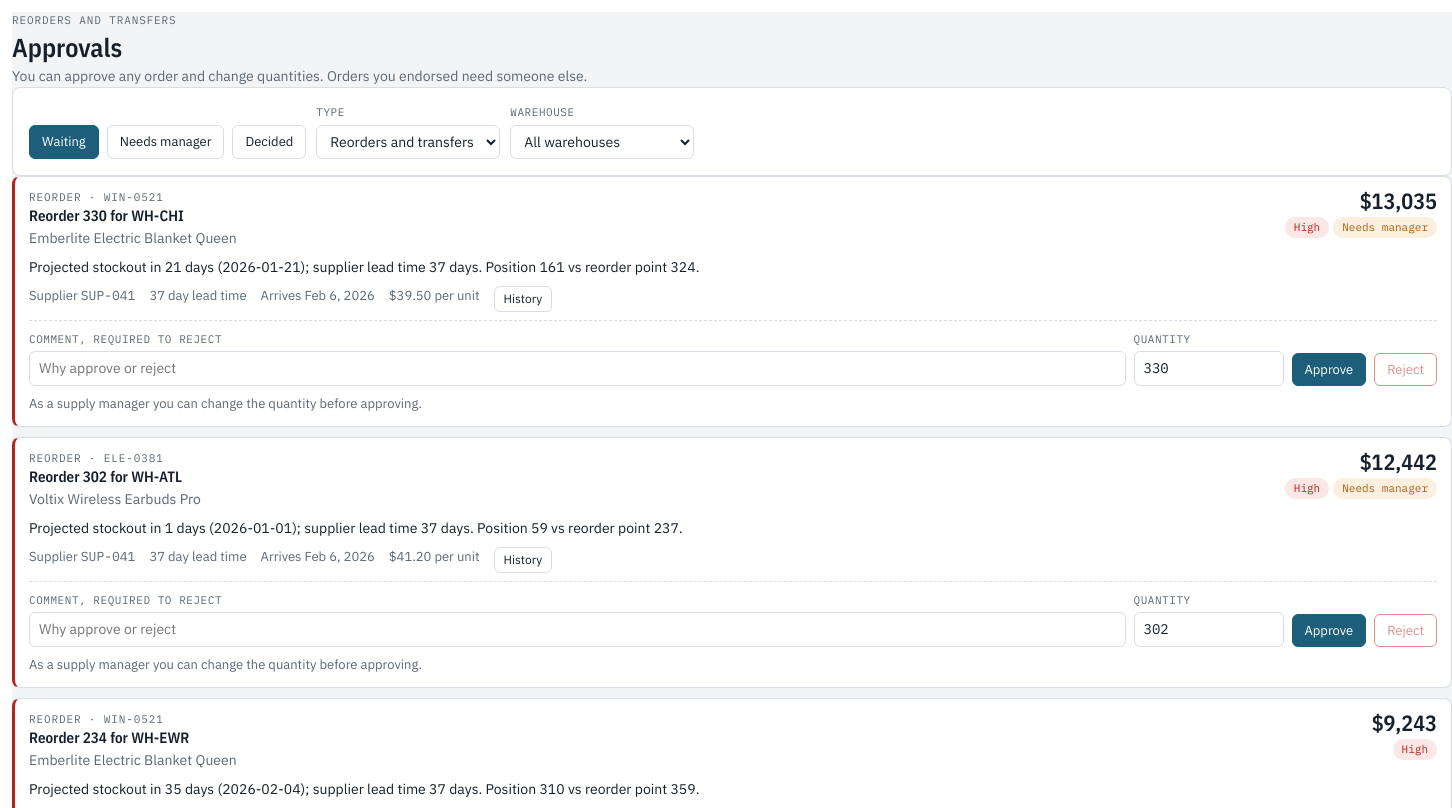
approval inbox role rules › gives a supply manager the quantity override
Replace the text in the number field labelled "Quantity" below "$13,035" with "12" at (1208, 369), box [1134,351,1284,386]
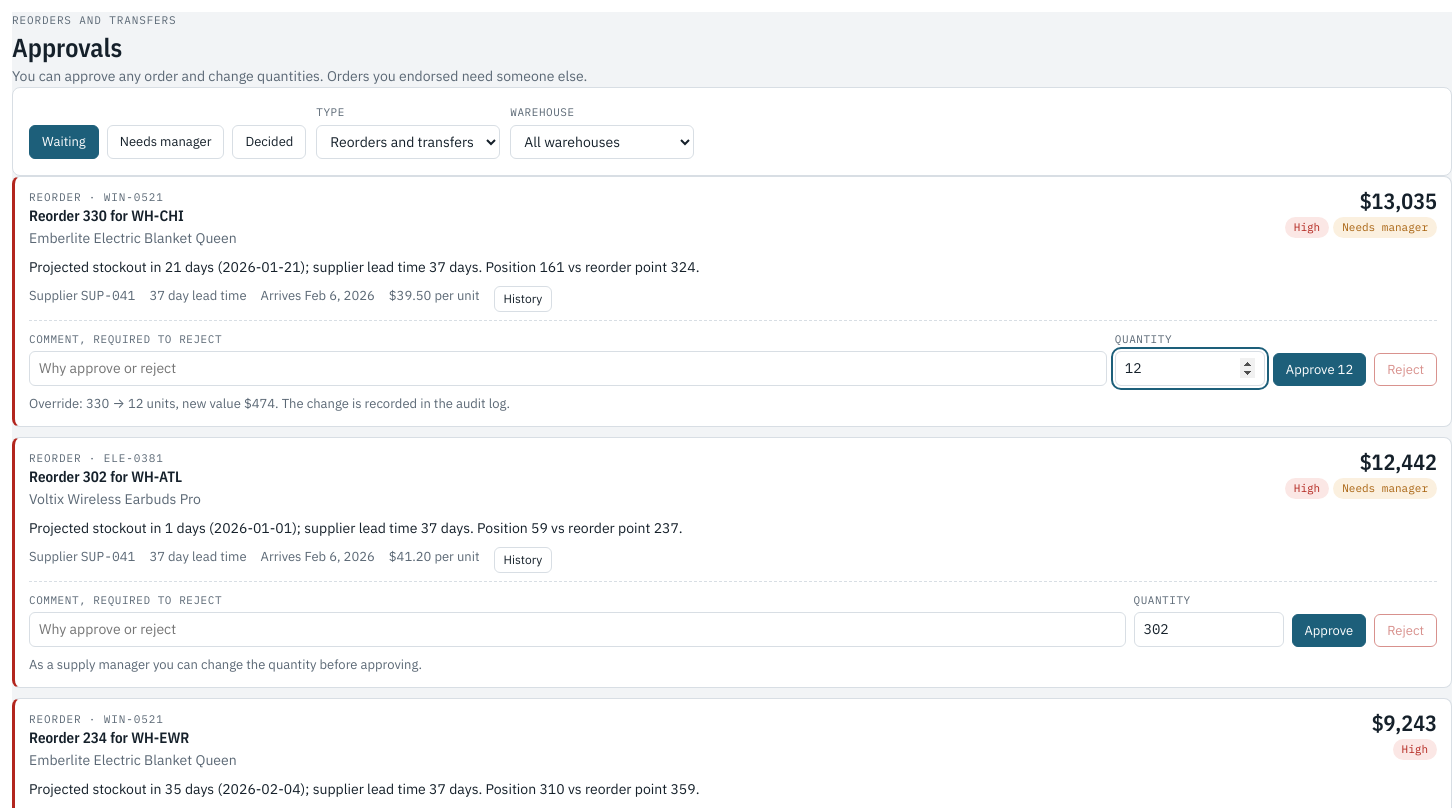
Now the button "Approve 12" is enabled, box [1273,353,1366,386]
Now the text "Override:" is shown, box [29,395,510,412]
